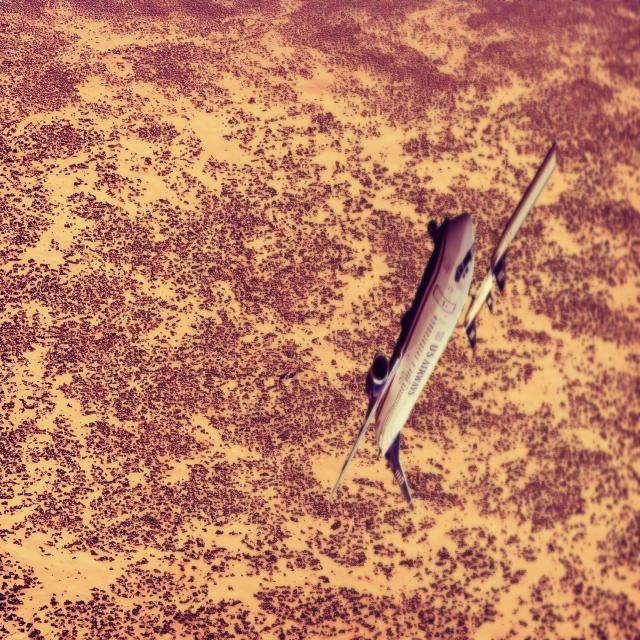airplane: (328, 139, 557, 510)
